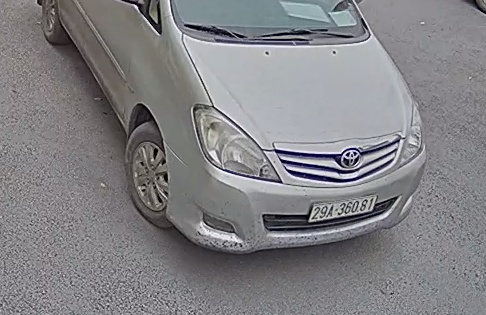vehicle plate: (305, 193, 392, 220)
